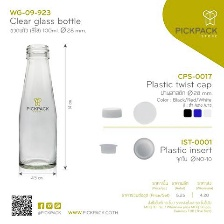bottle: (16, 37, 59, 175)
